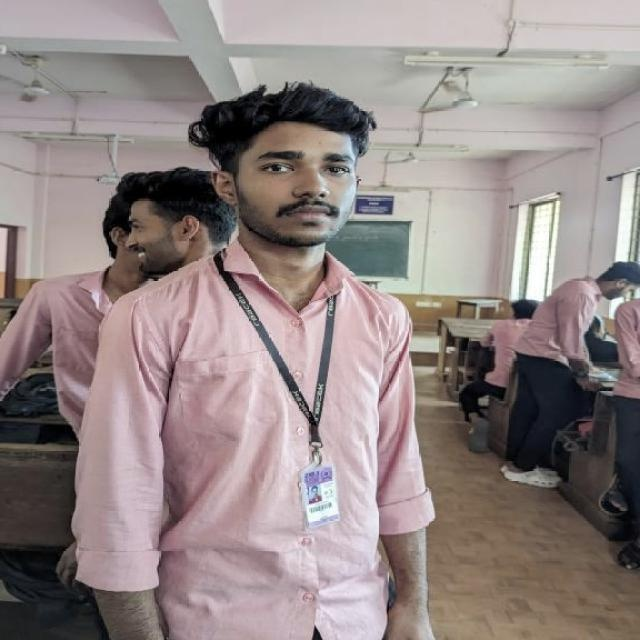ID_card: (229, 280, 336, 524)
